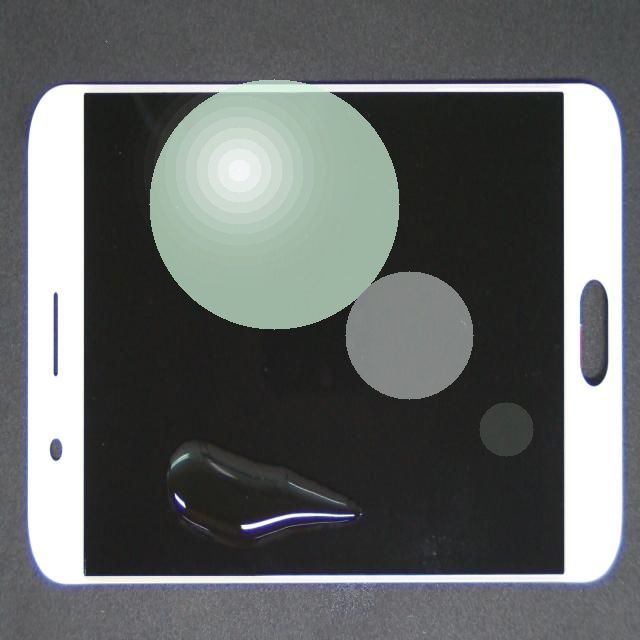oil: (55, 303, 423, 640)
